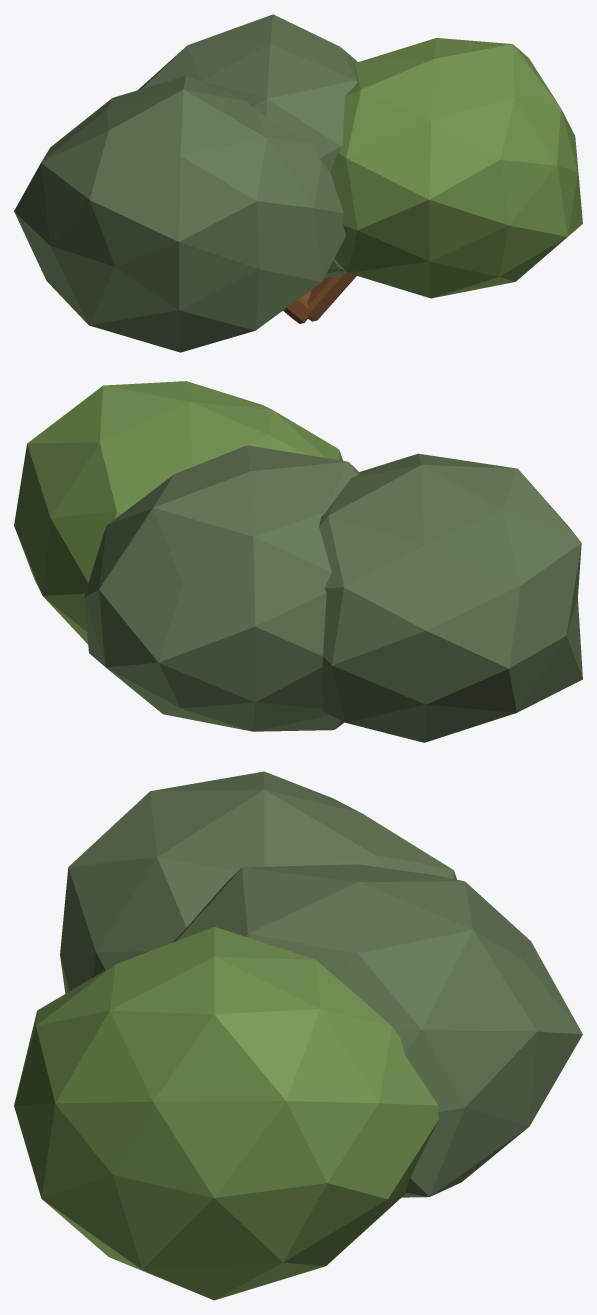
File: bush_a.glb
The picture shows the model from 3 angles, top to bottom: view 1: azimuth 30°, elevation 25°; view 2: azimuth 150°, elevation 25°; view 3: azimuth 270°, elevation 25°; orthographic projection. The views are drawn at different scales.
Visible parts, largest first — view 1: body; view 2: body; view 3: body.
Part boxes in pixels (<box>): body: <box>14,14,582,352</box>; body: <box>14,381,582,742</box>; body: <box>14,771,582,1300</box>.
Size of the model in its own units: 1.25 by 0.6126 by 0.9086.
